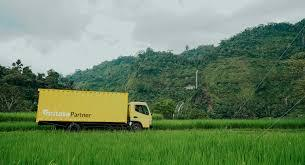truck: (126, 98, 158, 136)
